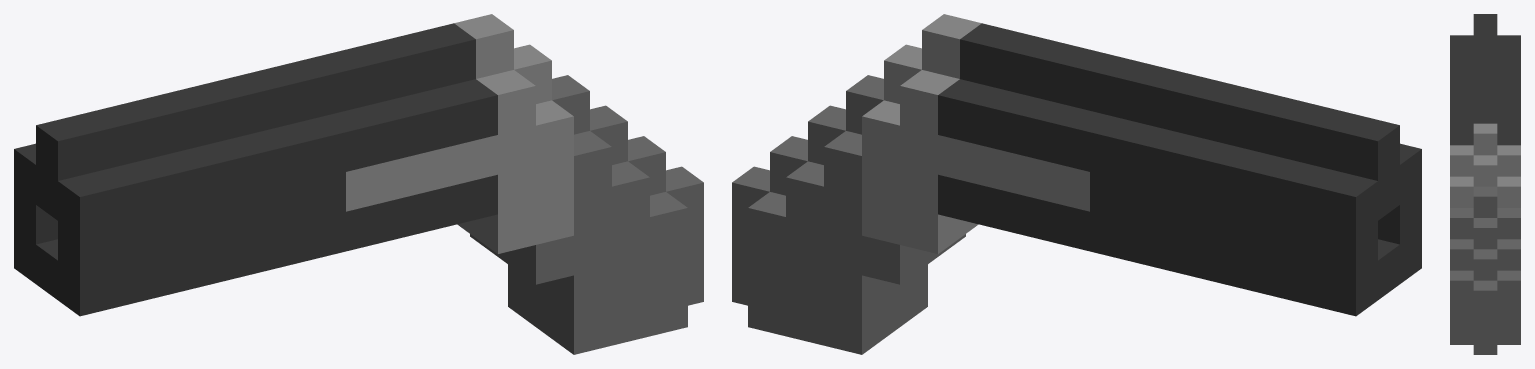
The model's file is pistol.gltf.
3 renders of one model, left to right at view 1: azimuth 30°, elevation 25°; view 2: azimuth 150°, elevation 25°; view 3: azimuth 270°, elevation 25°, orthographic. The views are drawn at different scales.
Visible parts, largest first — view 1: Layer.1; view 2: Layer.1; view 3: Layer.1.
Boxes of the visible parts, left/top/right/bottom form: Layer.1: left=14, top=14, right=703, bottom=354; Layer.1: left=732, top=14, right=1421, bottom=354; Layer.1: left=1450, top=14, right=1520, bottom=354.
Bounding box in the file's own units: 17 × 8 × 3.
Materials: 1 (1 with a texture image).
